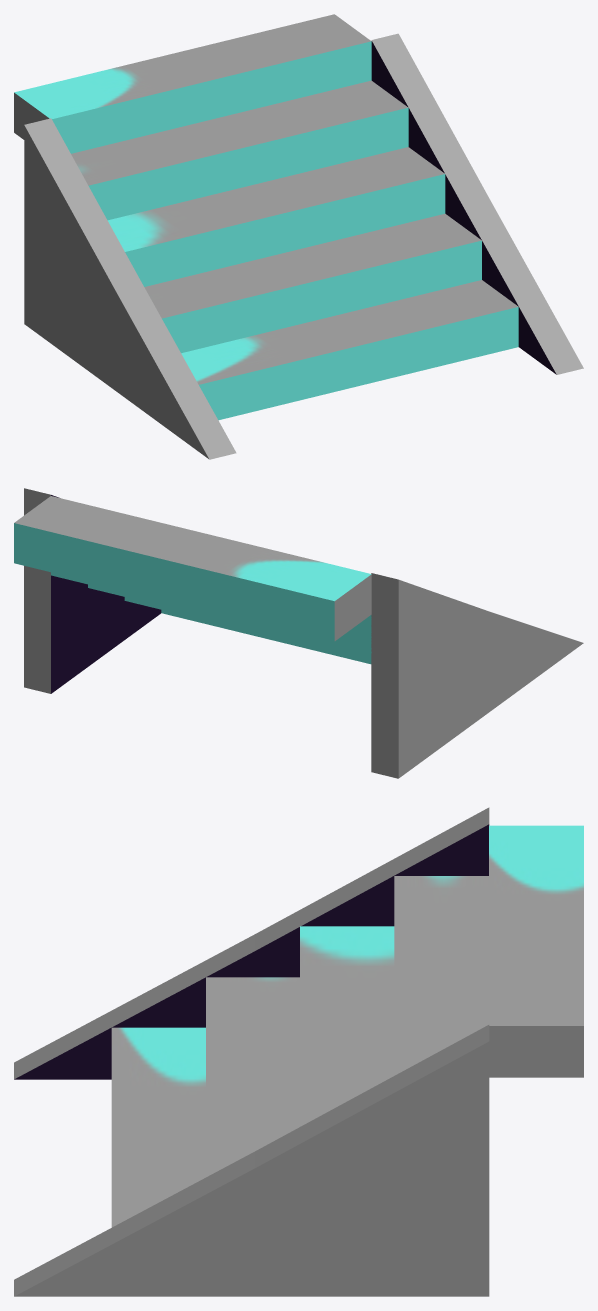
The model's file is escalera.FBX.
3 views of the same model, one above another, from view 1: azimuth 30°, elevation 25°; view 2: azimuth 150°, elevation 25°; view 3: azimuth 270°, elevation 25° (orthographic). The views are drawn at different scales.
Visible parts, largest first — view 1: Box002; view 2: Box002; view 3: Box002.
Part boxes in pixels (x1=…): Box002: x1=14, y1=14, x2=583, y2=459; Box002: x1=14, y1=488, x2=583, y2=778; Box002: x1=14, y1=807, x2=583, y2=1296.
Bounding box in the file's own units: 58.38 × 29.69 × 60.07.
